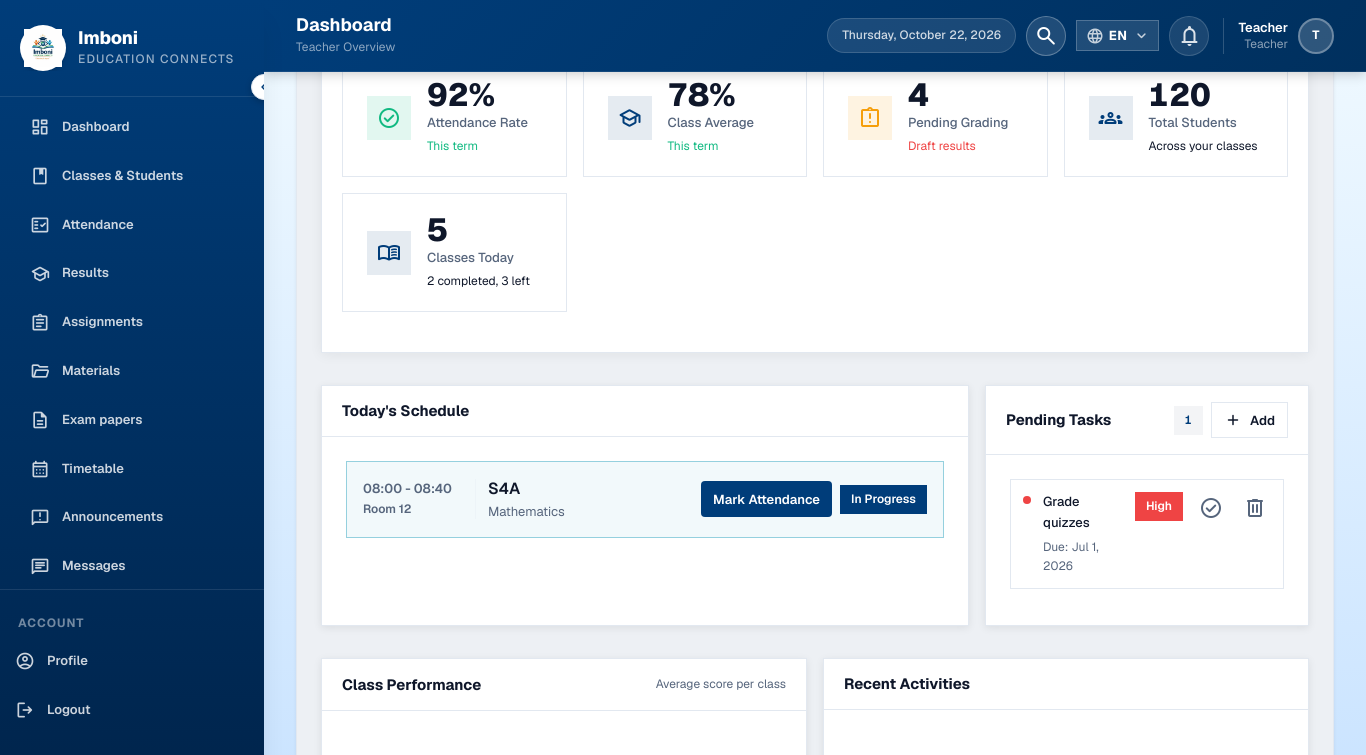
TeacherDashboard › opens the new-task modal and creates a task with the correct payload
The image size is (1366, 755).
(page scrolled)
Expected: the text "Grade quizzes" is shown, [1043,493,1090,531]
Step 1. Click the button titled "Add task" → (1250, 420), box [1211,402,1288,438]
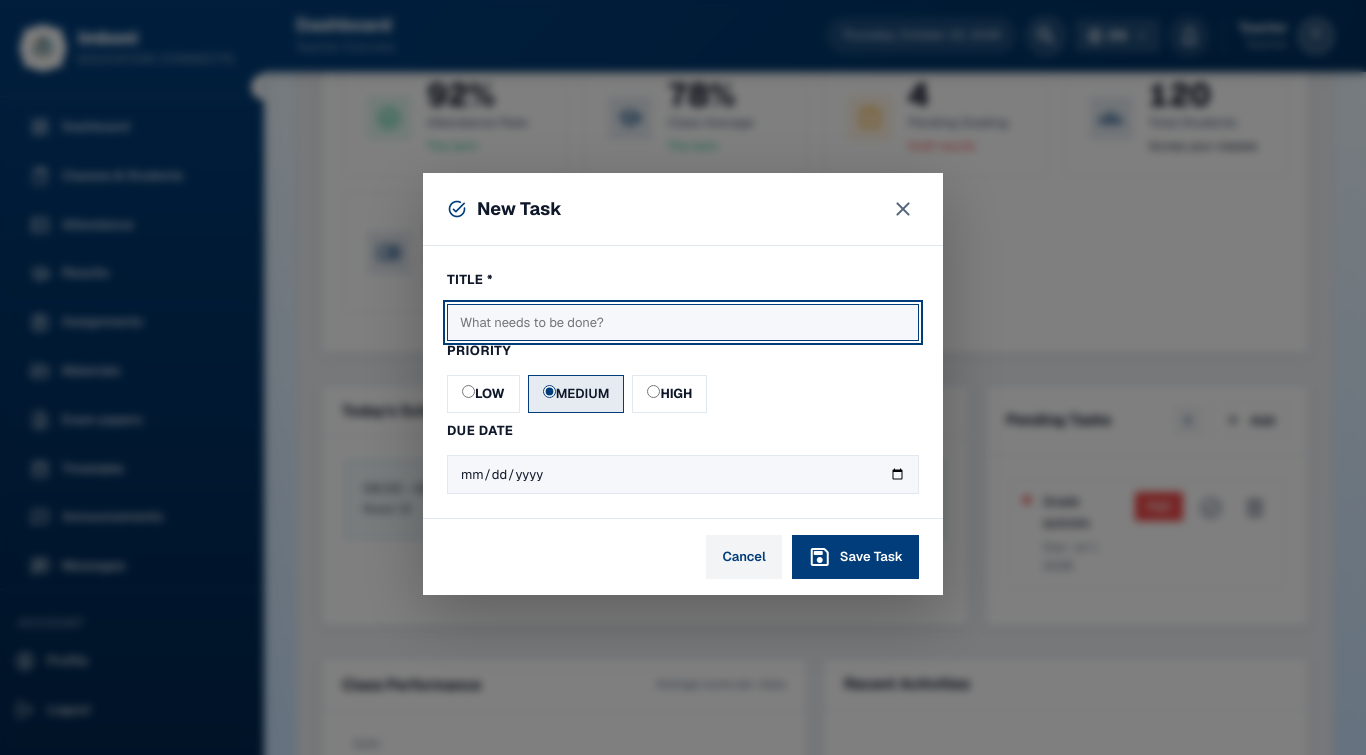
Expected: the heading "New Task" is shown, [477,198,562,220]
Step 2. Type "Mark attendance log" into the field with placeholder "What needs to be done?" → (683, 323), box [447,305,919,341]
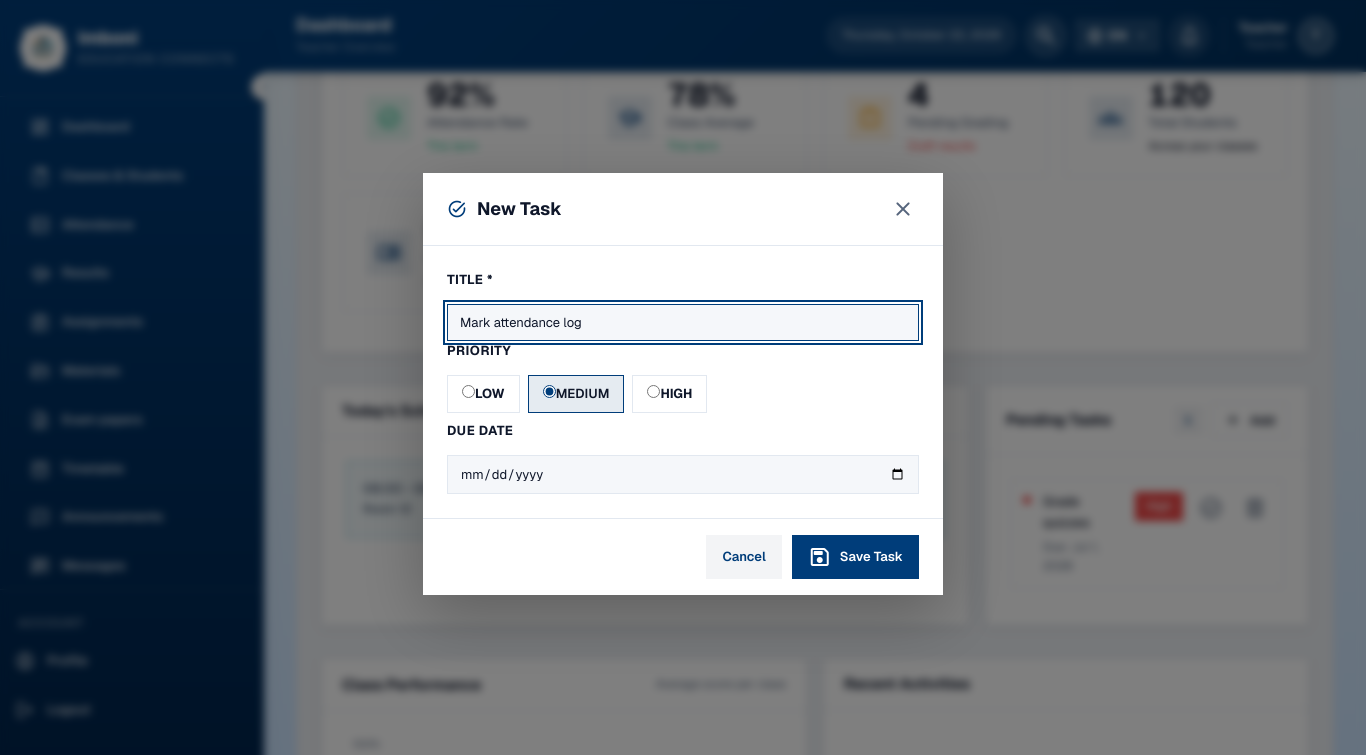
Step 3. Click the button "Save Task" → (855, 557), box [792,535,919,579]
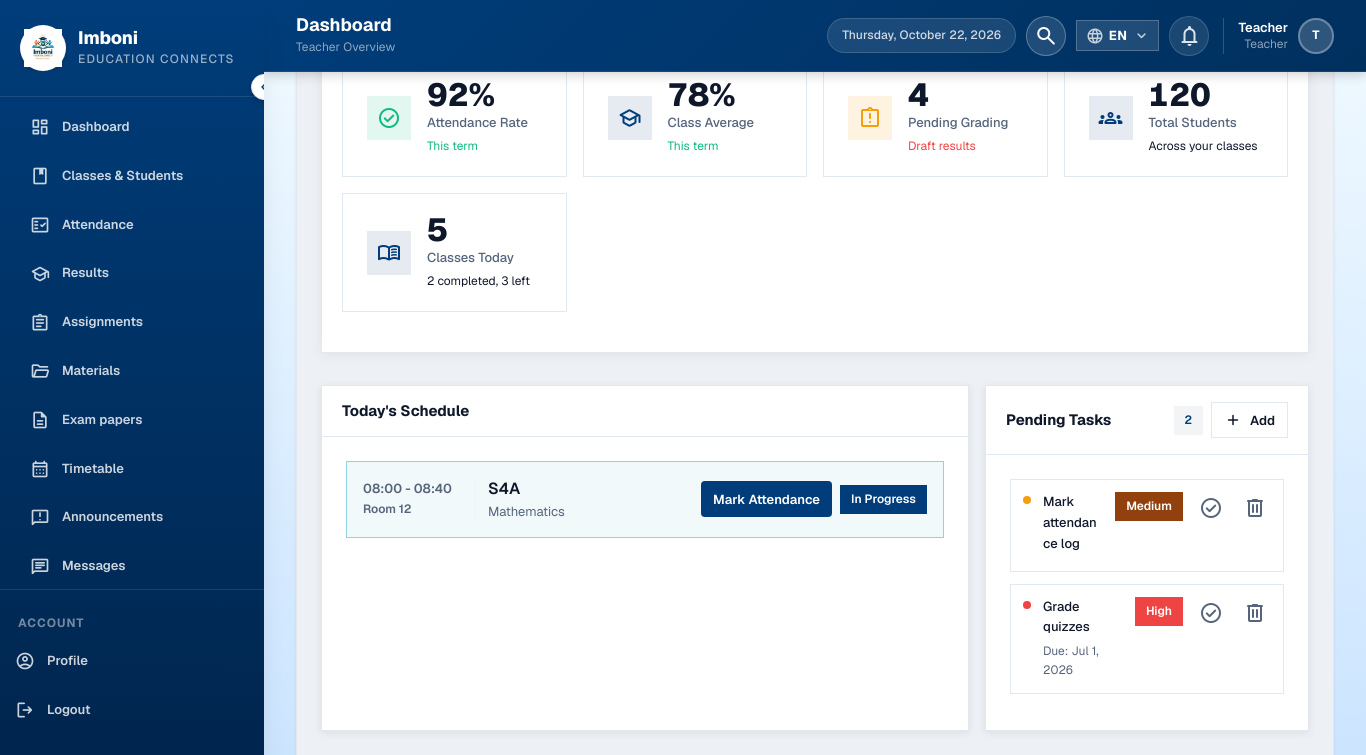
Expected: the text "Mark attendance log" is shown, [1043,492,1103,554]
